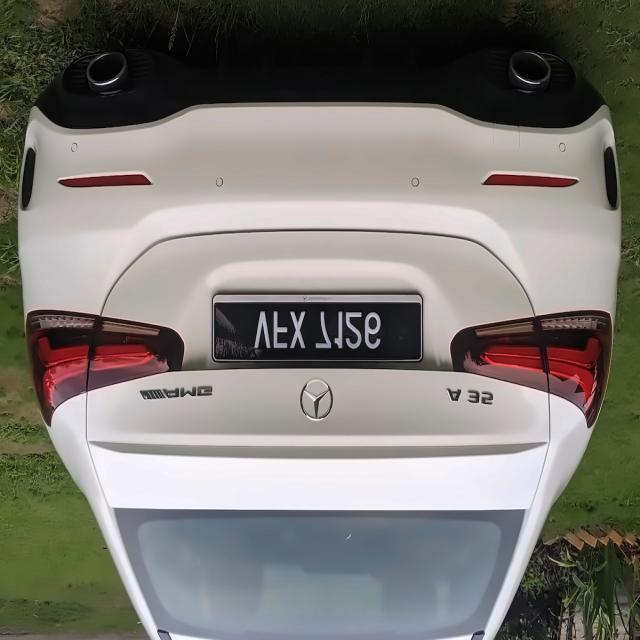car-plate: (213, 292, 423, 361)
